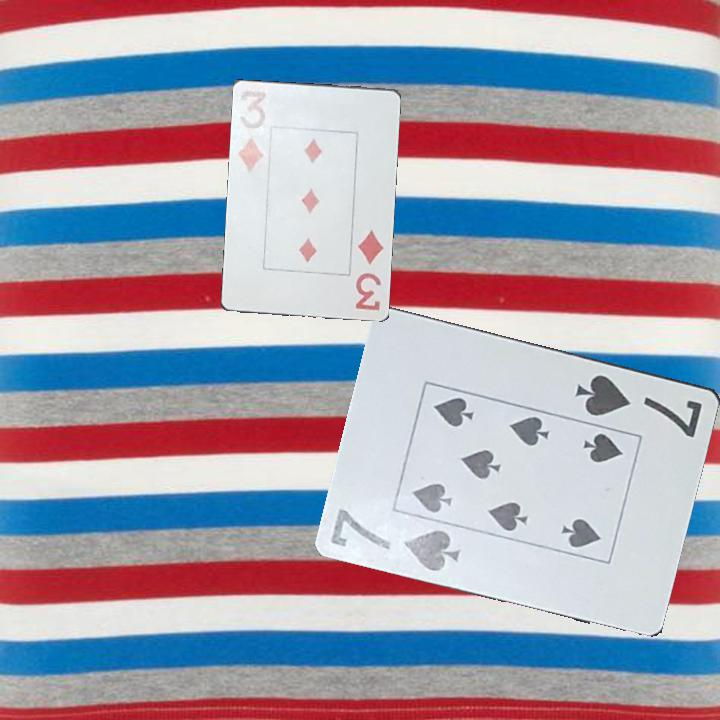3d: (234, 85, 271, 174), (351, 226, 388, 313)
7s: (326, 504, 464, 574), (572, 370, 706, 441)
